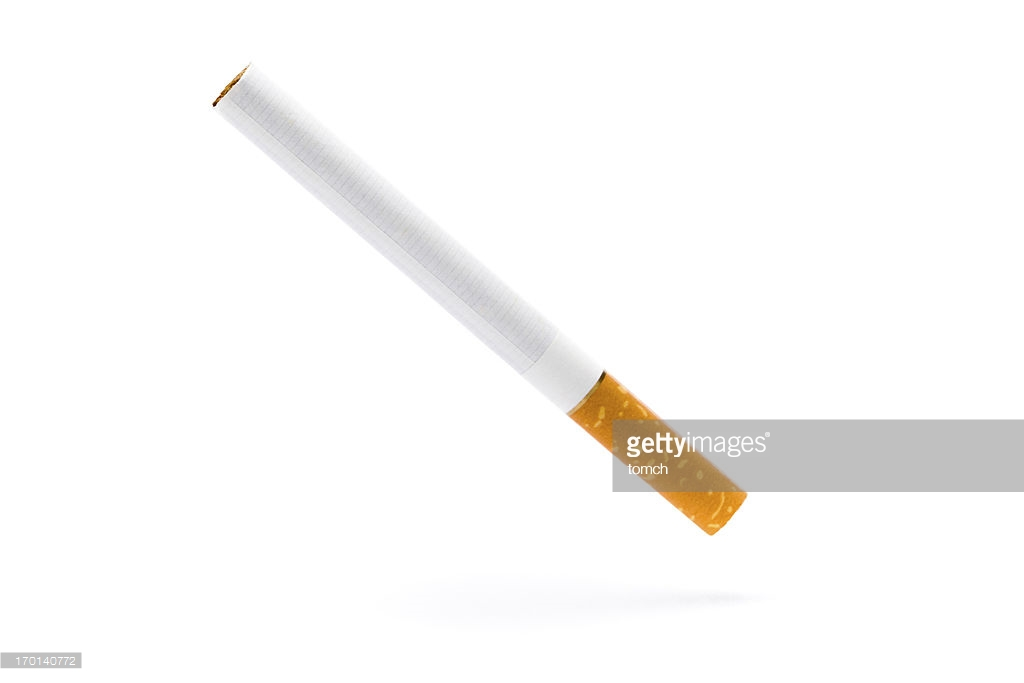cigarette: (174, 40, 754, 540)
